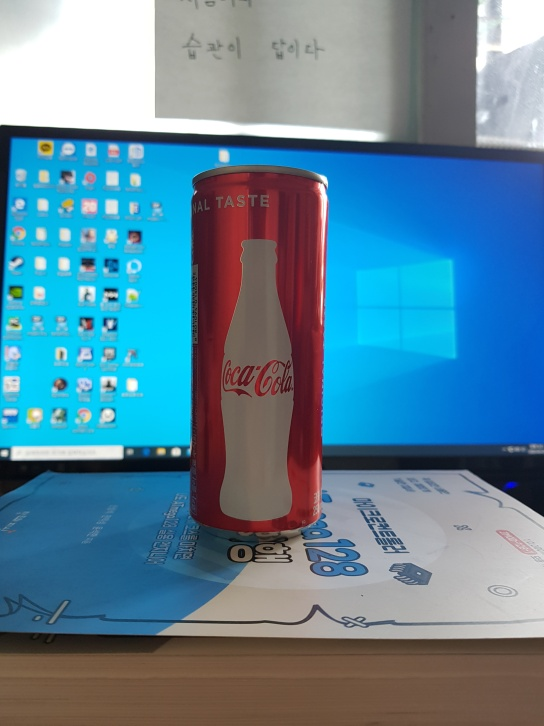Can: (190, 165, 329, 543)
